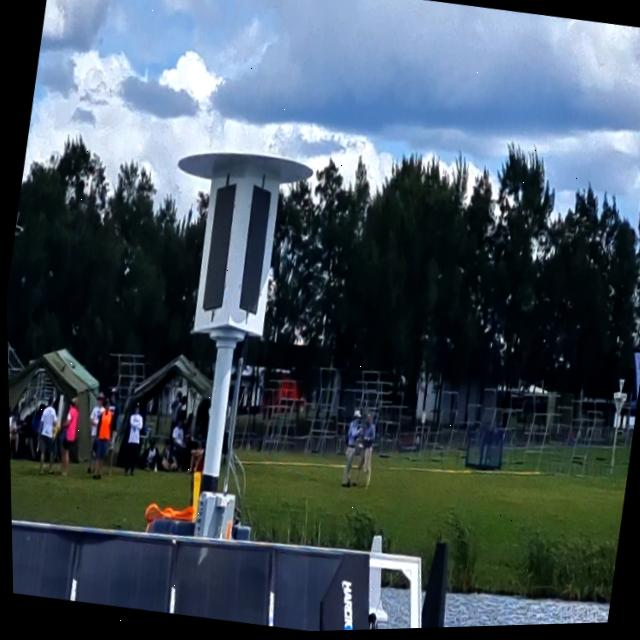led: (225, 177, 282, 329), (193, 180, 243, 318)
